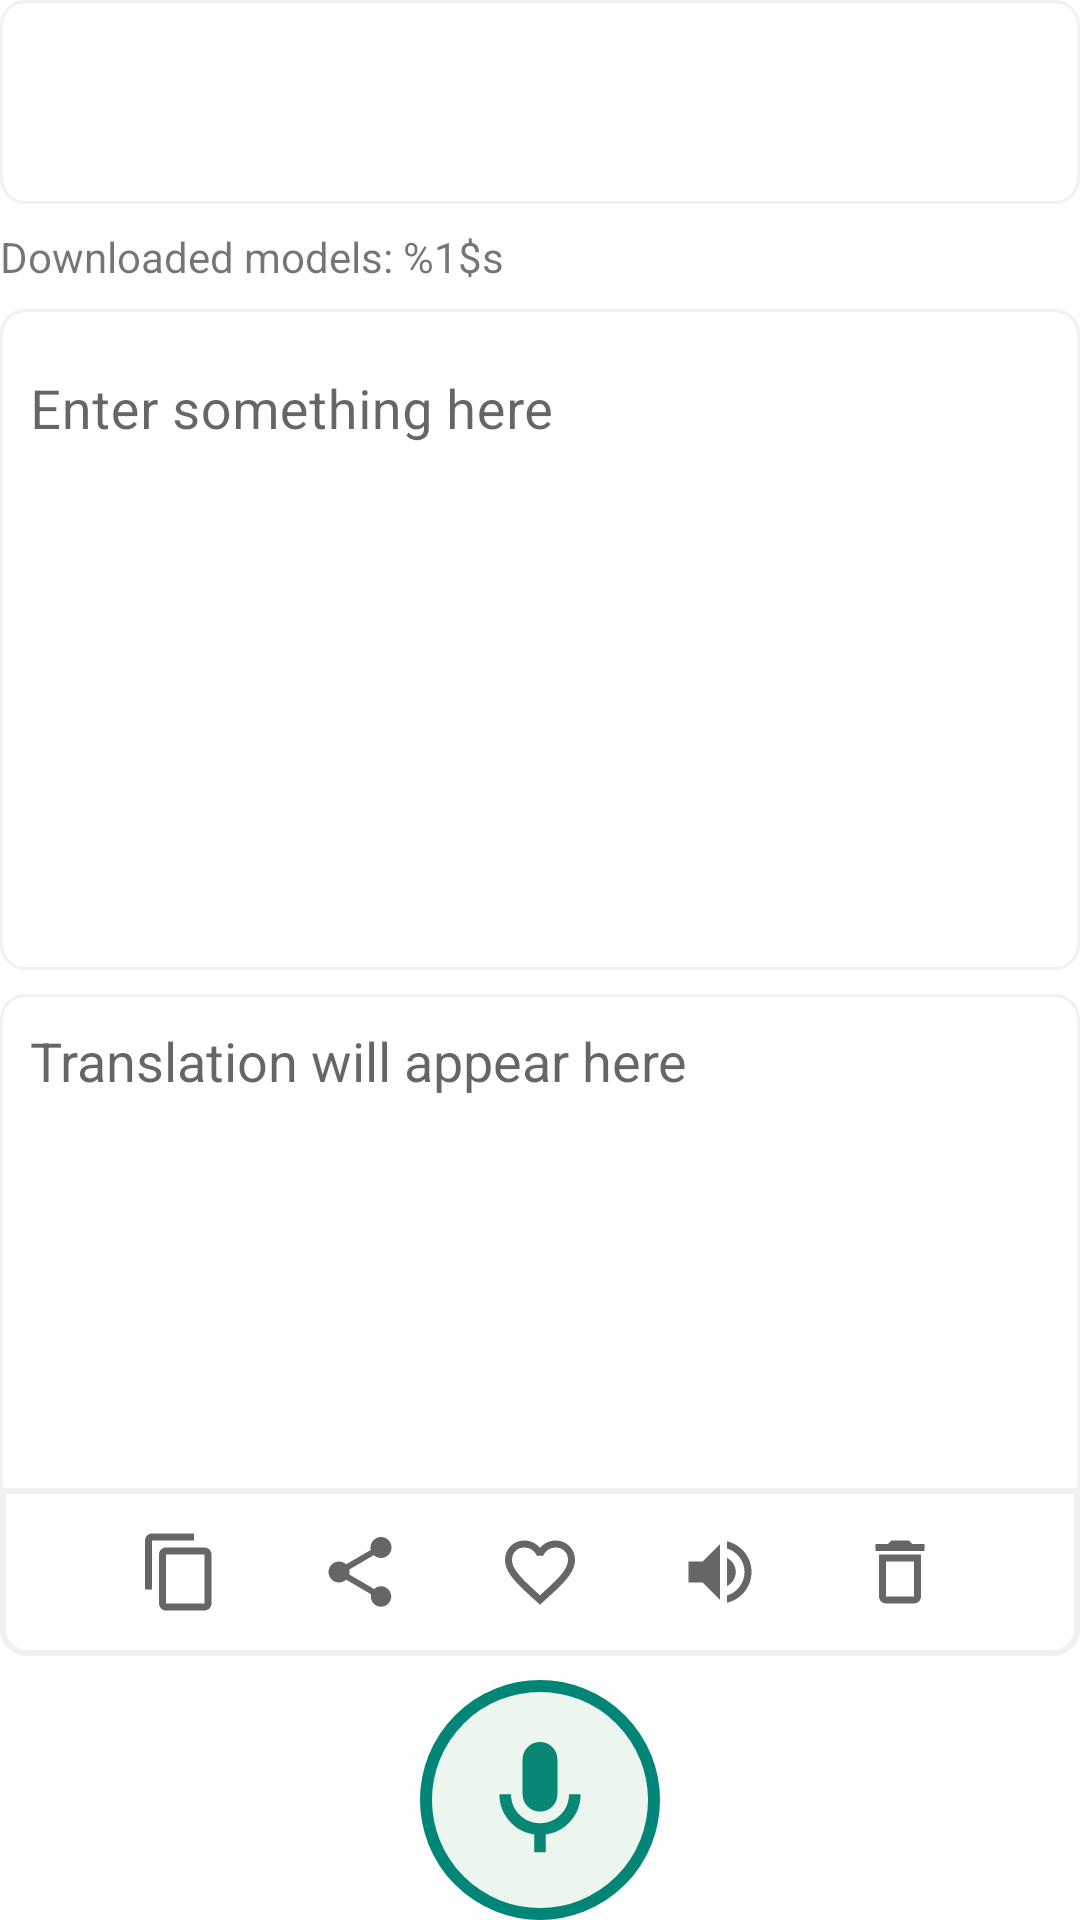

Locate icon controls on the screen. Image size 1080w x 1920h, boxes as (x1, y1, x2, y2).
delete: (875, 1540, 925, 1604)
favorite border: (505, 1540, 575, 1605)
share: (328, 1537, 392, 1607)
volume up: (688, 1541, 752, 1603)
